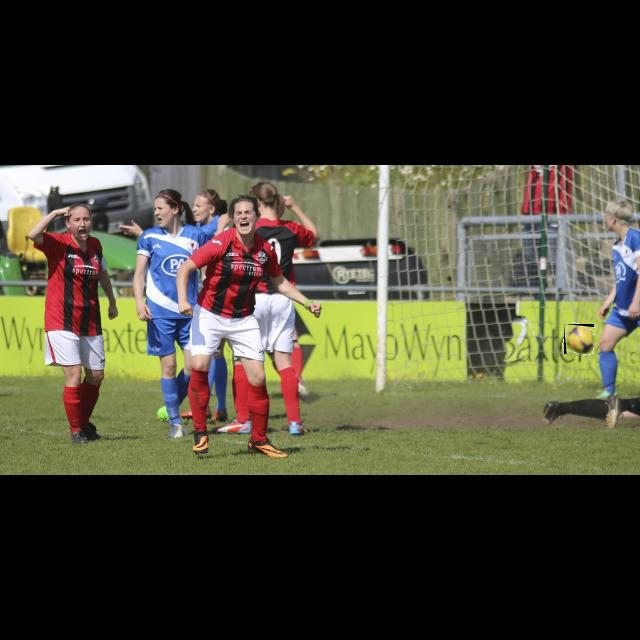Football: (564, 324, 594, 354)
